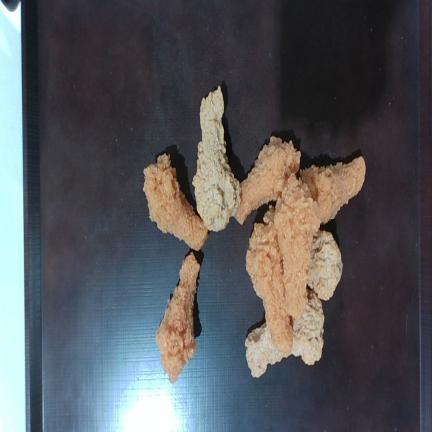chicken: (192, 86, 239, 230), (274, 175, 320, 317), (143, 154, 208, 250), (246, 223, 293, 353), (235, 136, 300, 224), (156, 253, 200, 383), (300, 156, 365, 223), (307, 230, 343, 300), (292, 290, 324, 365)
